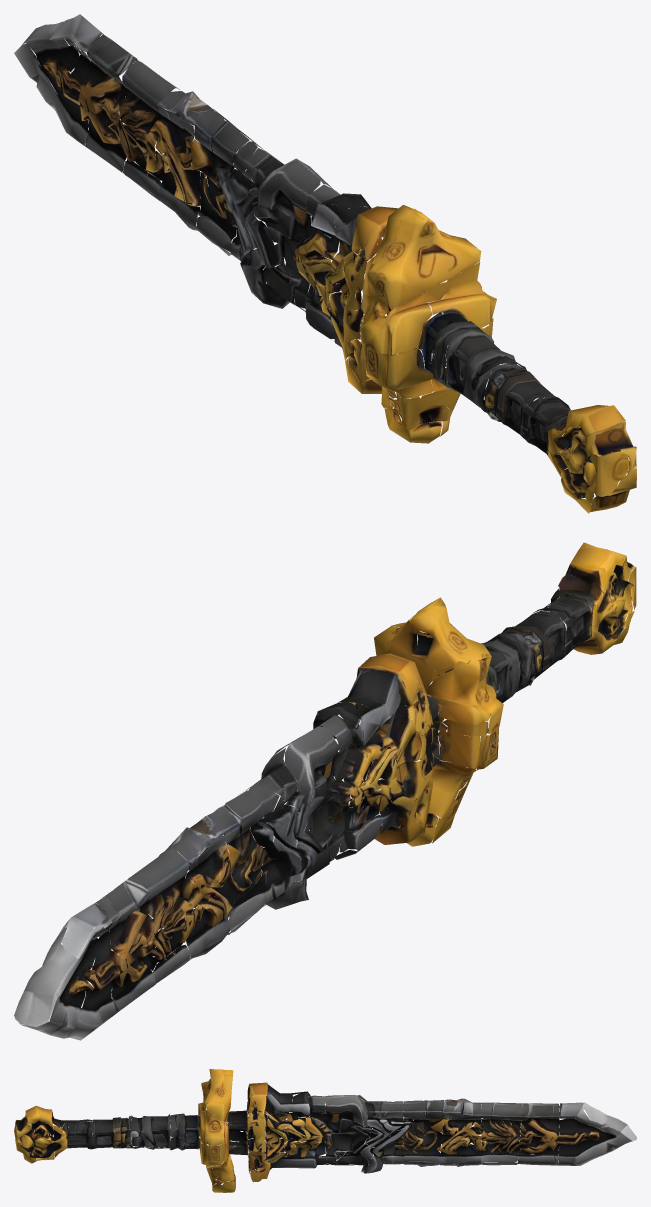
3 views of the same model, one above another, from view 1: azimuth 30°, elevation 25°; view 2: azimuth 150°, elevation 25°; view 3: azimuth 270°, elevation 25° (orthographic). The views are drawn at different scales.
Parts seen in each view (by area): view 1: W101; view 2: W101; view 3: W101.
Boxes of the visible parts, <box> form: W101: <box>14,14,636,513</box>; W101: <box>14,542,636,1040</box>; W101: <box>14,1069,636,1192</box>.
Bounding box in the file's own units: 0.1363 × 0.2409 × 1.12.
1 material, 1 textured.
